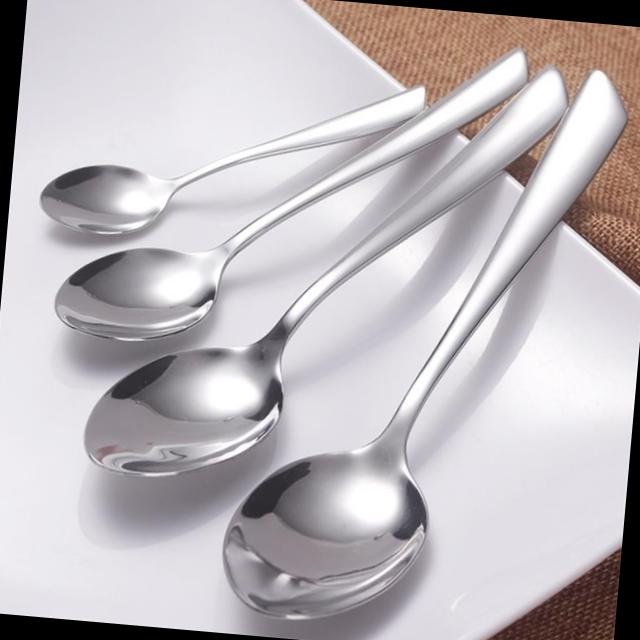spoon: (34, 52, 445, 270)
